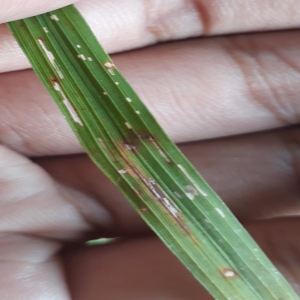Rice_Blast: (136, 168, 186, 232), (141, 126, 187, 170), (32, 34, 71, 84), (52, 82, 90, 131), (112, 131, 151, 164), (95, 130, 119, 170), (134, 198, 161, 219)
